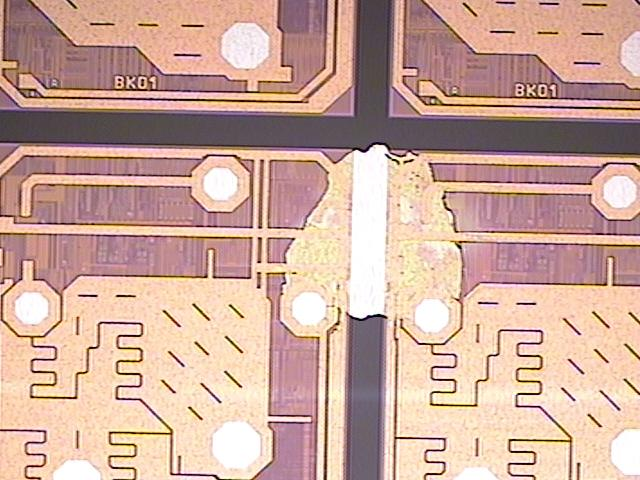BLOCK ETCH: (278, 143, 470, 324)
